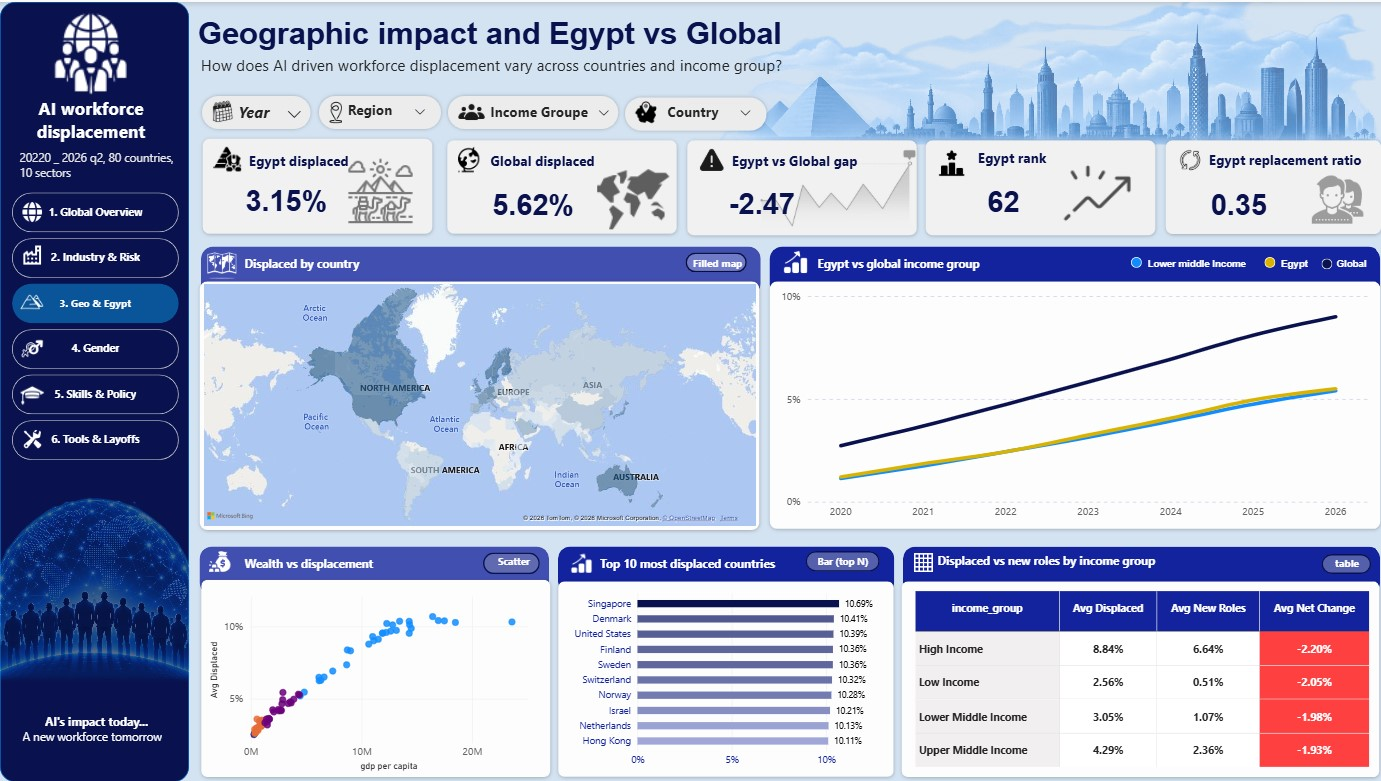

Layout of this report page (visuals, bound fields, positions):
{"tool":"powerbi","page":{"name":"3. Geo & Egypt","canvas":[1920,1080],"ordinal":2},"visuals":[{"type":"shape","box":[0,0,261.7,1080],"z":0},{"type":"image","box":[994.8,0,924.2,197.3],"z":1000},{"type":"textbox","box":[274.2,18.7,886.8,70.6],"z":2000},{"type":"shape","box":[274.4,124.4,161.1,56.7],"z":3000},{"type":"textbox","box":[278,73,958.2,46],"z":4000},{"type":"slicer","fields":{"Values":["year.year Hierarchy.year"]},"box":[295,132.5,133,44],"z":5000},{"type":"shape","box":[435.6,124.4,180,56.7],"z":6000},{"type":"image","box":[437.5,135,52.2,36.7],"z":7000},{"type":"slicer","fields":{"Values":["country.region"]},"box":[448.8,133.8,150,36.2],"z":8000},{"type":"shape","box":[615.6,124.4,246.7,56.7],"z":9000},{"type":"slicer","fields":{"Values":["country.income_group"]},"box":[656.7,135,196.7,36.7],"z":10000},{"type":"image","box":[627.5,133.8,51.1,36.7],"z":11000},{"type":"shape","box":[275,183,330.9,144.8],"z":12000},{"type":"textbox","box":[344,207,197.6,29.9],"z":13000},{"type":"image","box":[463.3,213.5,127.2,95.4],"z":14000},{"type":"image","box":[295,196,39.1,44.5],"z":15000},{"type":"cardVisual","fields":{"Data":["_Measures.Egypt Displaced pct"]},"box":[312.5,232.5,170,84.3],"z":16000},{"type":"shape","box":[612.7,185.3,330.9,142.5],"z":17000},{"type":"textbox","box":[680,207.5,176.9,29.9],"z":18000},{"type":"image","box":[813.1,218,124.9,106.8],"z":19000},{"type":"image","box":[630,195,39,42],"z":20000},{"type":"shape","box":[318.8,137.5,27.5,35],"z":21000},{"type":"cardVisual","fields":{"Data":["_Measures.Global Displaced pct"]},"box":[655.7,238.6,164.3,82.9],"z":22000},{"type":"image","box":[272.5,133.8,73.3,37.8],"z":23000},{"type":"textbox","box":[330,137.5,50,30],"z":24000},{"type":"shape","box":[680,137.5,25,35],"z":25000},{"type":"shape","box":[473.8,135,31.2,35],"z":26000},{"type":"textbox","box":[482.5,137.5,77.5,28.8],"z":27000},{"type":"textbox","box":[678.8,140,138.9,28.9],"z":28000},{"type":"shape","box":[944.3,185.7,330.9,144.8],"z":29000},{"type":"textbox","box":[1012.5,207.5,207.1,30],"z":30000},{"type":"image","box":[965,197.5,39,43],"z":31000},{"type":"image","box":[1044.3,192.9,231.4,130],"z":32000},{"type":"cardVisual","fields":{"Data":["_Measures.Egypt Gap pp"]},"box":[970,237.5,170,84.3],"z":33000},{"type":"shape","box":[1275.7,185.7,330.9,144.8],"z":34000},{"type":"image","box":[1441.2,218.8,151.2,97.5],"z":35000},{"type":"image","box":[1298.8,201.2,39,43],"z":36000},{"type":"cardVisual","fields":{"Data":["_Measures.Egypt Rank"]},"box":[1303.8,233.8,170,84.3],"z":37000},{"type":"textbox","box":[1353.8,202.5,163.8,30],"z":38000},{"type":"shape","box":[1607.1,185.7,312.9,142.9],"z":39000},{"type":"image","box":[1800,231.2,102.5,86.2],"z":40000},{"type":"image","box":[1627.5,197.5,39,43],"z":41000},{"type":"cardVisual","fields":{"Data":["_Measures.Egypt Replacement Ratio"]},"box":[1630,238.6,170,84.3],"z":42000},{"type":"textbox","box":[1673.8,205,215,27.5],"z":43000},{"type":"shape","box":[278,338,775,68],"z":44000},{"type":"image","box":[284.9,342.4,45.7,40],"z":45000},{"type":"textbox","box":[337.8,351.6,348.6,31.4],"z":46000},{"type":"shape","box":[270,380,788,357.5],"z":47000},{"type":"shape","box":[1066,338,847,69],"z":48000},{"type":"image","box":[1079.3,343,43,37],"z":49000},{"type":"textbox","box":[1132.9,351.6,282.6,23],"z":50000},{"type":"shape","box":[1060,380,860,356],"z":51000},{"type":"textbox","box":[1850,351.7,46.7,26.7],"z":52000},{"type":"shape","box":[1829.3,354.9,15,15],"z":53000},{"type":"textbox","box":[1773.2,351.8,46.4,21.4],"z":54000},{"type":"shape","box":[1750,353.6,15,15],"z":55000},{"type":"shape","box":[277.1,754.3,484,67.1],"z":56000},{"type":"image","box":[285,758.8,39,34],"z":57000},{"type":"textbox","box":[338.3,766.7,266.7,26.7],"z":58000},{"type":"shape","box":[271.2,793.8,496.2,286.2],"z":59000},{"type":"shape","box":[668.8,761.2,78.8,30],"z":60000},{"type":"textbox","box":[688.8,765,80,25.7],"z":61000},{"type":"shape","box":[772.2,754.4,465.7,65.7],"z":62000},{"type":"image","box":[786.4,761.4,36,32],"z":63000},{"type":"textbox","box":[830,766.7,278.3,31.7],"z":64000},{"type":"shape","box":[766.2,796.2,477.5,283.8],"z":65000},{"type":"shape","box":[1250,754.4,662.2,66.7],"z":66000},{"type":"image","box":[1261.1,760,36,32],"z":67000},{"type":"textbox","box":[1298.9,762.2,348.6,31.4],"z":68000},{"type":"shape","box":[1828.9,763.3,68.9,27.8],"z":69000},{"type":"textbox","box":[1847.8,766.7,41.1,25.6],"z":70000},{"type":"image","box":[54,12.5,143.3,118.4],"z":71000},{"type":"textbox","box":[35.3,130.8,181.5,87.3],"z":72000},{"type":"textbox","box":[27,203.5,227.1,61.4],"z":73000},{"type":"textbox","box":[61.7,985,143.3,25],"z":74000},{"type":"textbox","box":[31.7,1005,203.3,33.3],"z":75000},{"type":"image","box":[0,675,262,291.8],"z":76000},{"type":"pageNavigator","box":[16.2,263.2,231.2,371.2],"z":77000},{"type":"image","box":[27.7,273.9,35,33],"z":78000},{"type":"image","box":[27.7,334.9,35,33],"z":79000},{"type":"image","box":[27.7,398.9,35,33],"z":80000},{"type":"image","box":[27.7,462.9,35,33],"z":81000},{"type":"image","box":[27.7,526.9,35,33],"z":82000},{"type":"image","box":[29.7,589.9,32,31],"z":83000},{"type":"shape","box":[860,126,207,57],"z":84000},{"type":"slicer","fields":{"Values":["country.country"]},"box":[902,134,148,37],"z":85000},{"type":"image","box":[872.9,137,44,31],"z":86000},{"type":"shape","box":[925.4,136.4,25,35],"z":87000},{"type":"textbox","box":[924,139,72,29],"z":88000},{"type":"filledMap","fields":{"Category":["country.country"]},"box":[266,375,797,366],"z":89000},{"type":"shape","box":[950,347.5,85,27.5],"z":90000},{"type":"textbox","box":[960,350,91.2,25],"z":91000},{"type":"lineChart","fields":{"Category":["year.year"],"Y":["_Measures.Lower-Middle Income Displaced pct","_Measures.Egypt Displaced pct","_Measures.Global Displaced pct"]},"box":[1066.2,381.4,845.6,353.9],"z":92000},{"type":"textbox","box":[1588.3,351.7,156.7,20],"z":93000},{"type":"shape","box":[1566.7,353.3,15,15],"z":94000},{"type":"scatterChart","fields":{"Category":["country.country"],"Series":["country.income_group"],"X":["Sum(fact_table.gdp_per_capita_usd)"],"Y":["_Measures.Avg Displaced"]},"box":[275,801.2,486.2,278.8],"z":95000},{"type":"barChart","fields":{"Category":["country.country"],"Y":["_Measures.Avg Displaced"]},"box":[771.7,798.3,465,281.7],"z":96000},{"type":"shape","box":[1115.7,760,102.9,28.6],"z":97000},{"type":"textbox","box":[1132.9,764.3,91.4,25.7],"z":98000},{"type":"shape","box":[1242.9,795.7,675.7,284.3],"z":99000},{"type":"tableEx","fields":{"Values":["country.income_group","_Measures.Avg Displaced","_Measures.Avg New Roles","_Measures.Avg Net Change"]},"box":[1250,801.4,662.9,278.6],"z":100000}]}

Visuals, with their boxes on the page's 1920x1080 design canvas (x1, y1, x2, y2). These are canvas units, not pixel positions in the 1381x781 screenshot, which may show the page scaled, cropped or inside an application window:
shape: {"left": 0, "top": 0, "right": 262, "bottom": 1080}
image: {"left": 995, "top": 0, "right": 1919, "bottom": 197}
textbox: {"left": 274, "top": 19, "right": 1161, "bottom": 89}
shape: {"left": 274, "top": 124, "right": 436, "bottom": 181}
textbox: {"left": 278, "top": 73, "right": 1236, "bottom": 119}
slicer - year.year Hierarchy.year: {"left": 295, "top": 132, "right": 428, "bottom": 176}
shape: {"left": 436, "top": 124, "right": 616, "bottom": 181}
image: {"left": 438, "top": 135, "right": 490, "bottom": 172}
slicer - country.region: {"left": 449, "top": 134, "right": 599, "bottom": 170}
shape: {"left": 616, "top": 124, "right": 862, "bottom": 181}
slicer - country.income_group: {"left": 657, "top": 135, "right": 853, "bottom": 172}
image: {"left": 628, "top": 134, "right": 679, "bottom": 170}
shape: {"left": 275, "top": 183, "right": 606, "bottom": 328}
textbox: {"left": 344, "top": 207, "right": 542, "bottom": 237}
image: {"left": 463, "top": 214, "right": 590, "bottom": 309}
image: {"left": 295, "top": 196, "right": 334, "bottom": 240}
cardVisual - _Measures.Egypt Displaced pct: {"left": 312, "top": 232, "right": 482, "bottom": 317}
shape: {"left": 613, "top": 185, "right": 944, "bottom": 328}
textbox: {"left": 680, "top": 208, "right": 857, "bottom": 237}
image: {"left": 813, "top": 218, "right": 938, "bottom": 325}
image: {"left": 630, "top": 195, "right": 669, "bottom": 237}
shape: {"left": 319, "top": 138, "right": 346, "bottom": 172}
cardVisual - _Measures.Global Displaced pct: {"left": 656, "top": 239, "right": 820, "bottom": 322}
image: {"left": 272, "top": 134, "right": 346, "bottom": 172}
textbox: {"left": 330, "top": 138, "right": 380, "bottom": 168}
shape: {"left": 680, "top": 138, "right": 705, "bottom": 172}
shape: {"left": 474, "top": 135, "right": 505, "bottom": 170}
textbox: {"left": 482, "top": 138, "right": 560, "bottom": 166}
textbox: {"left": 679, "top": 140, "right": 818, "bottom": 169}
shape: {"left": 944, "top": 186, "right": 1275, "bottom": 330}
textbox: {"left": 1012, "top": 208, "right": 1220, "bottom": 238}
image: {"left": 965, "top": 198, "right": 1004, "bottom": 240}
image: {"left": 1044, "top": 193, "right": 1276, "bottom": 323}
cardVisual - _Measures.Egypt Gap pp: {"left": 970, "top": 238, "right": 1140, "bottom": 322}
shape: {"left": 1276, "top": 186, "right": 1607, "bottom": 330}
image: {"left": 1441, "top": 219, "right": 1592, "bottom": 316}
image: {"left": 1299, "top": 201, "right": 1338, "bottom": 244}
cardVisual - _Measures.Egypt Rank: {"left": 1304, "top": 234, "right": 1474, "bottom": 318}
textbox: {"left": 1354, "top": 202, "right": 1518, "bottom": 232}
shape: {"left": 1607, "top": 186, "right": 1920, "bottom": 329}
image: {"left": 1800, "top": 231, "right": 1902, "bottom": 317}
image: {"left": 1628, "top": 198, "right": 1666, "bottom": 240}
cardVisual - _Measures.Egypt Replacement Ratio: {"left": 1630, "top": 239, "right": 1800, "bottom": 323}
textbox: {"left": 1674, "top": 205, "right": 1889, "bottom": 232}
shape: {"left": 278, "top": 338, "right": 1053, "bottom": 406}
image: {"left": 285, "top": 342, "right": 331, "bottom": 382}
textbox: {"left": 338, "top": 352, "right": 686, "bottom": 383}
shape: {"left": 270, "top": 380, "right": 1058, "bottom": 738}
shape: {"left": 1066, "top": 338, "right": 1913, "bottom": 407}
image: {"left": 1079, "top": 343, "right": 1122, "bottom": 380}
textbox: {"left": 1133, "top": 352, "right": 1416, "bottom": 375}
shape: {"left": 1060, "top": 380, "right": 1920, "bottom": 736}
textbox: {"left": 1850, "top": 352, "right": 1897, "bottom": 378}
shape: {"left": 1829, "top": 355, "right": 1844, "bottom": 370}
textbox: {"left": 1773, "top": 352, "right": 1820, "bottom": 373}
shape: {"left": 1750, "top": 354, "right": 1765, "bottom": 369}
shape: {"left": 277, "top": 754, "right": 761, "bottom": 821}
image: {"left": 285, "top": 759, "right": 324, "bottom": 793}
textbox: {"left": 338, "top": 767, "right": 605, "bottom": 793}
shape: {"left": 271, "top": 794, "right": 767, "bottom": 1080}
shape: {"left": 669, "top": 761, "right": 748, "bottom": 791}
textbox: {"left": 689, "top": 765, "right": 769, "bottom": 791}
shape: {"left": 772, "top": 754, "right": 1238, "bottom": 820}
image: {"left": 786, "top": 761, "right": 822, "bottom": 793}
textbox: {"left": 830, "top": 767, "right": 1108, "bottom": 798}
shape: {"left": 766, "top": 796, "right": 1244, "bottom": 1080}
shape: {"left": 1250, "top": 754, "right": 1912, "bottom": 821}
image: {"left": 1261, "top": 760, "right": 1297, "bottom": 792}
textbox: {"left": 1299, "top": 762, "right": 1648, "bottom": 794}
shape: {"left": 1829, "top": 763, "right": 1898, "bottom": 791}
textbox: {"left": 1848, "top": 767, "right": 1889, "bottom": 792}
image: {"left": 54, "top": 12, "right": 197, "bottom": 131}
textbox: {"left": 35, "top": 131, "right": 217, "bottom": 218}
textbox: {"left": 27, "top": 204, "right": 254, "bottom": 265}
textbox: {"left": 62, "top": 985, "right": 205, "bottom": 1010}
textbox: {"left": 32, "top": 1005, "right": 235, "bottom": 1038}
image: {"left": 0, "top": 675, "right": 262, "bottom": 967}
pageNavigator: {"left": 16, "top": 263, "right": 247, "bottom": 634}
image: {"left": 28, "top": 274, "right": 63, "bottom": 307}
image: {"left": 28, "top": 335, "right": 63, "bottom": 368}
image: {"left": 28, "top": 399, "right": 63, "bottom": 432}
image: {"left": 28, "top": 463, "right": 63, "bottom": 496}
image: {"left": 28, "top": 527, "right": 63, "bottom": 560}
image: {"left": 30, "top": 590, "right": 62, "bottom": 621}
shape: {"left": 860, "top": 126, "right": 1067, "bottom": 183}
slicer - country.country: {"left": 902, "top": 134, "right": 1050, "bottom": 171}
image: {"left": 873, "top": 137, "right": 917, "bottom": 168}
shape: {"left": 925, "top": 136, "right": 950, "bottom": 171}
textbox: {"left": 924, "top": 139, "right": 996, "bottom": 168}
filledMap - country.country: {"left": 266, "top": 375, "right": 1063, "bottom": 741}
shape: {"left": 950, "top": 348, "right": 1035, "bottom": 375}
textbox: {"left": 960, "top": 350, "right": 1051, "bottom": 375}
lineChart - year.year x _Measures.Lower-Middle Income Displaced pct: {"left": 1066, "top": 381, "right": 1912, "bottom": 735}
textbox: {"left": 1588, "top": 352, "right": 1745, "bottom": 372}
shape: {"left": 1567, "top": 353, "right": 1582, "bottom": 368}
scatterChart - country.country x country.income_group: {"left": 275, "top": 801, "right": 761, "bottom": 1080}
barChart - country.country x _Measures.Avg Displaced: {"left": 772, "top": 798, "right": 1237, "bottom": 1080}
shape: {"left": 1116, "top": 760, "right": 1219, "bottom": 789}
textbox: {"left": 1133, "top": 764, "right": 1224, "bottom": 790}
shape: {"left": 1243, "top": 796, "right": 1919, "bottom": 1080}
tableEx - country.income_group x _Measures.Avg Displaced: {"left": 1250, "top": 801, "right": 1913, "bottom": 1080}
